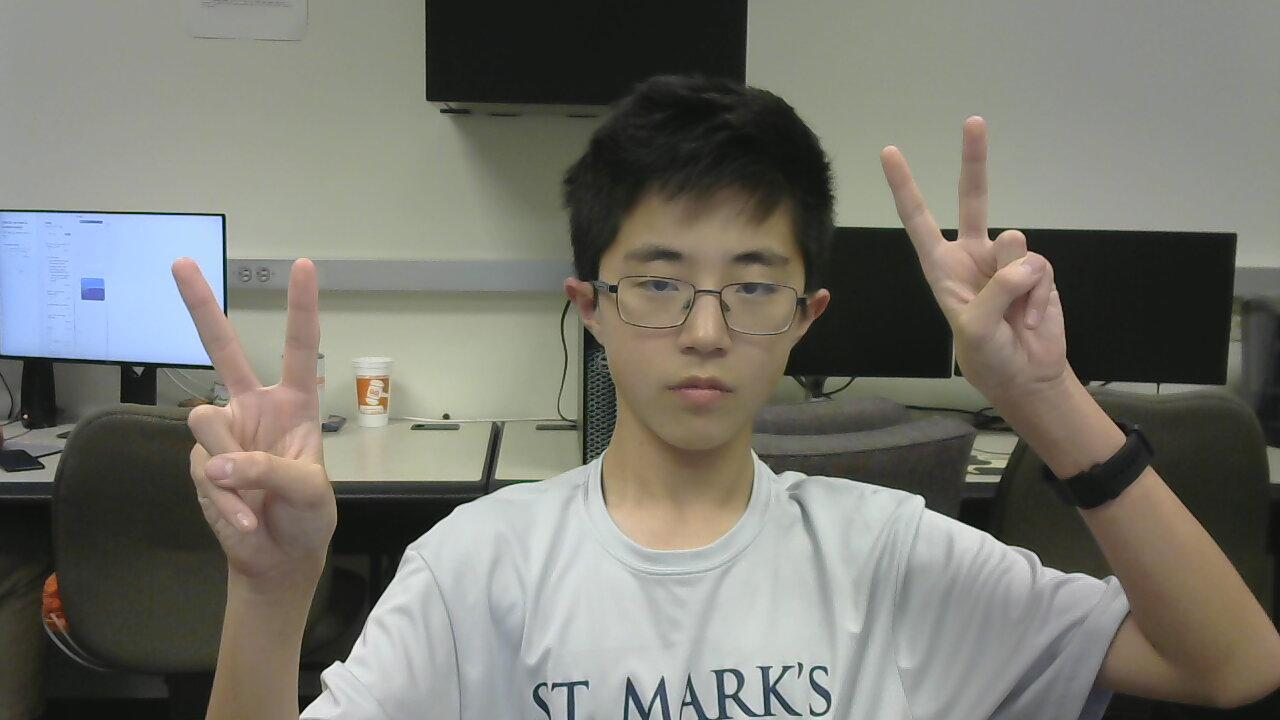peace: (861, 102, 1080, 426), (156, 232, 362, 573)
